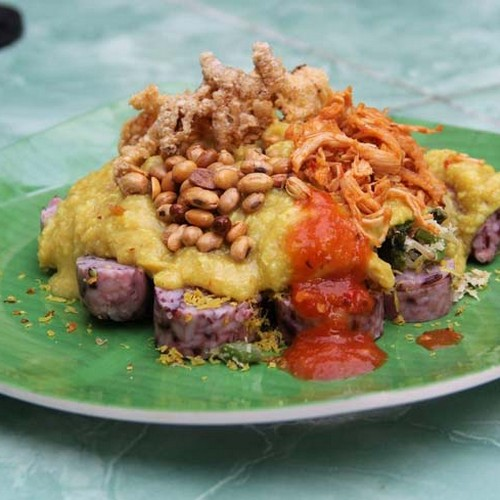tipat blayag: (52, 39, 477, 372)
